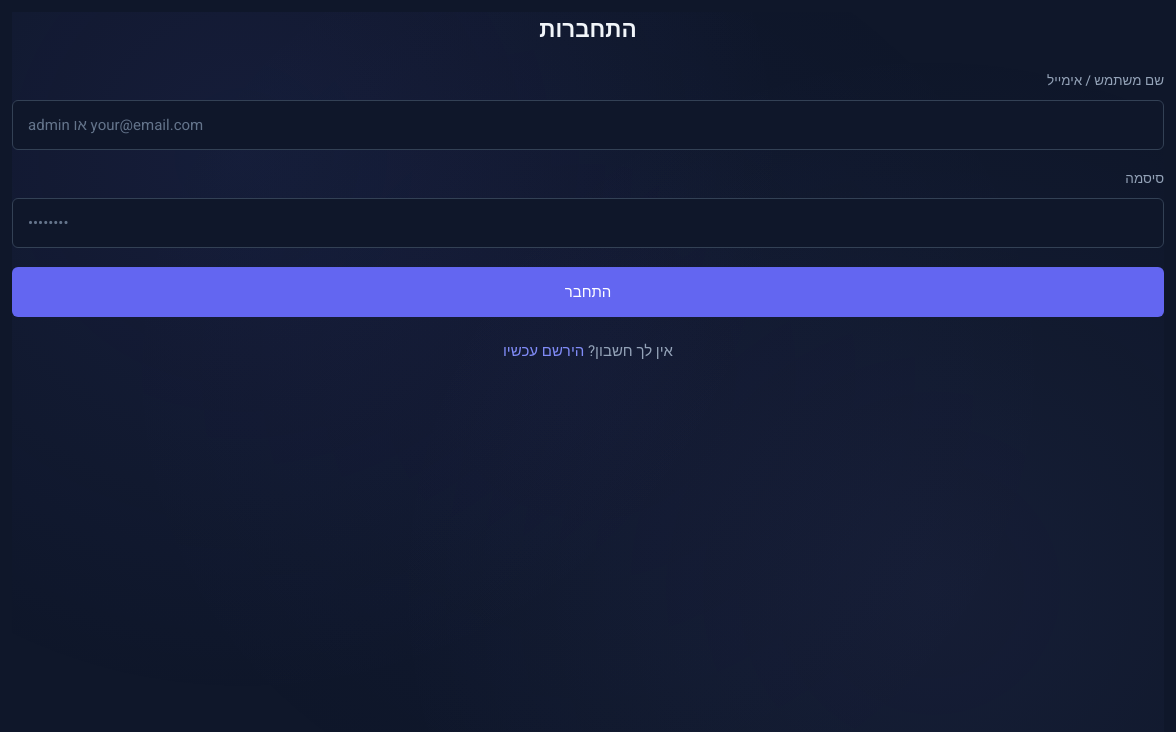
Scenario: Login - password login › clears the previous error when submitting again
This screenshot has width=1176, height=732.
Type "dana@example.com" into the field with placeholder "admin או your@email.com" at (588, 125), box 12,100 -> 1164,150
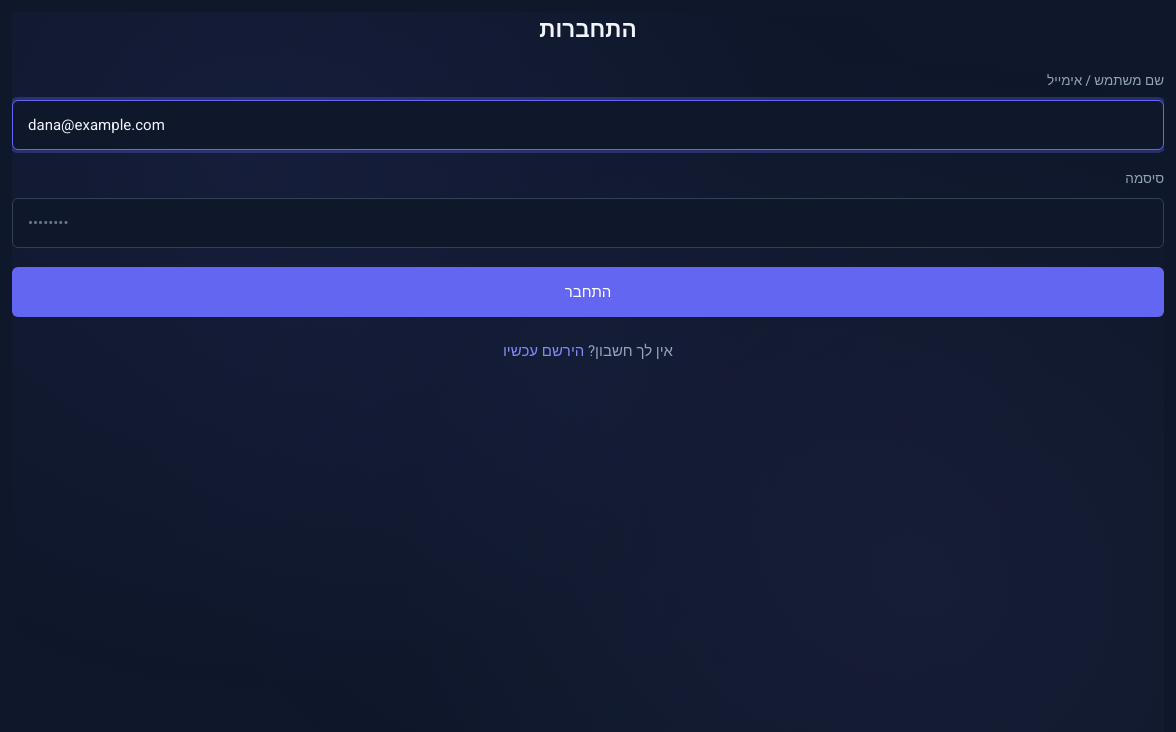
Type "secret" into the password field with placeholder "••••••••" at (588, 223), box 12,198 -> 1164,248
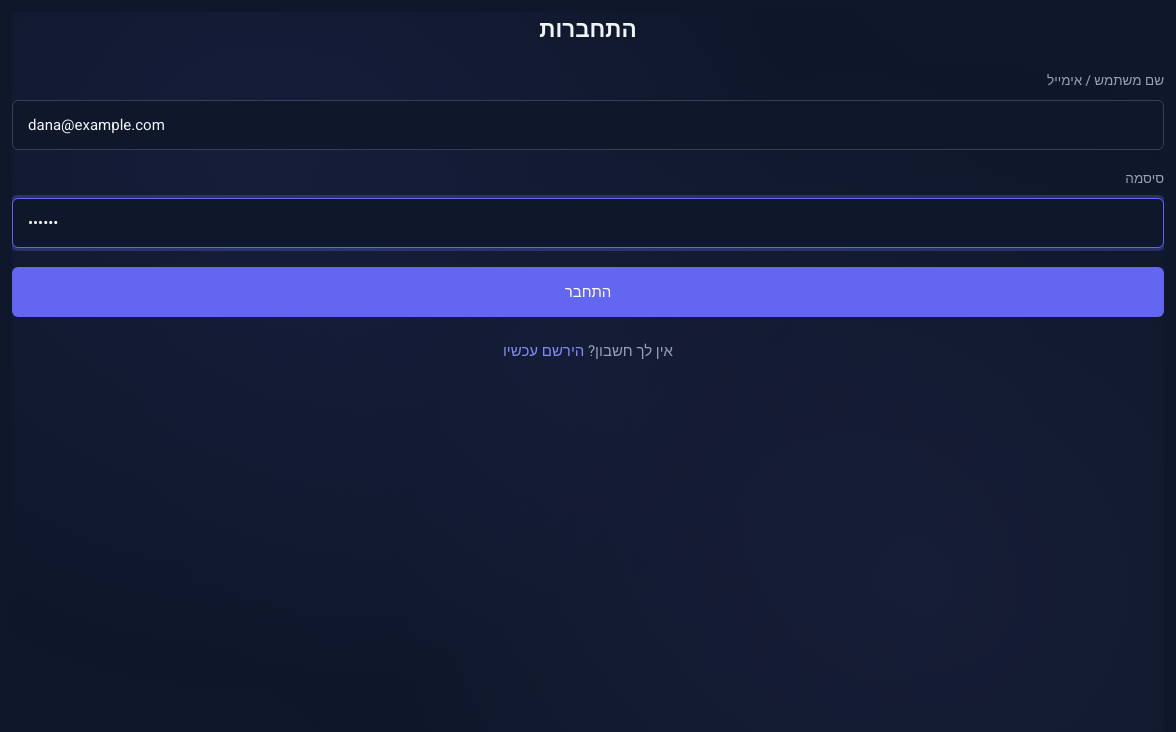
Click the button "התחבר" at (588, 292), box 12,267 -> 1164,317
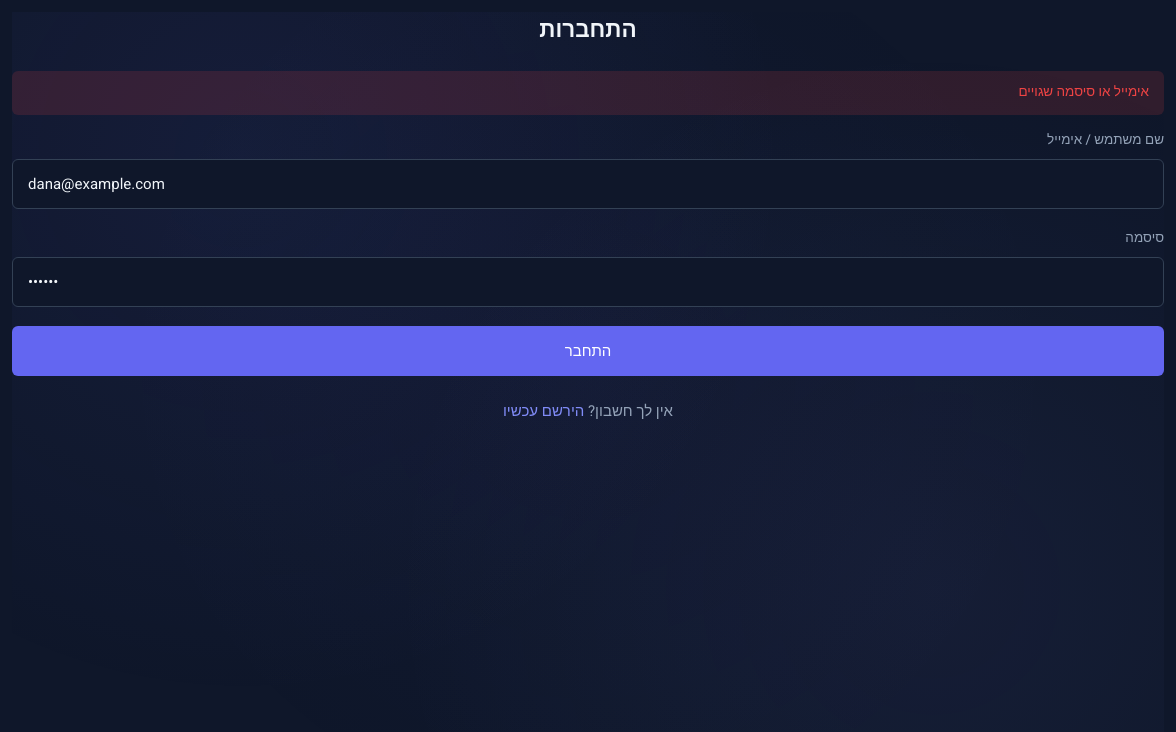
Expected: the text "אימייל או סיסמה שגויים" is shown, 12,70 -> 1164,115
Click the button "התחבר" at (588, 351), box 12,326 -> 1164,376
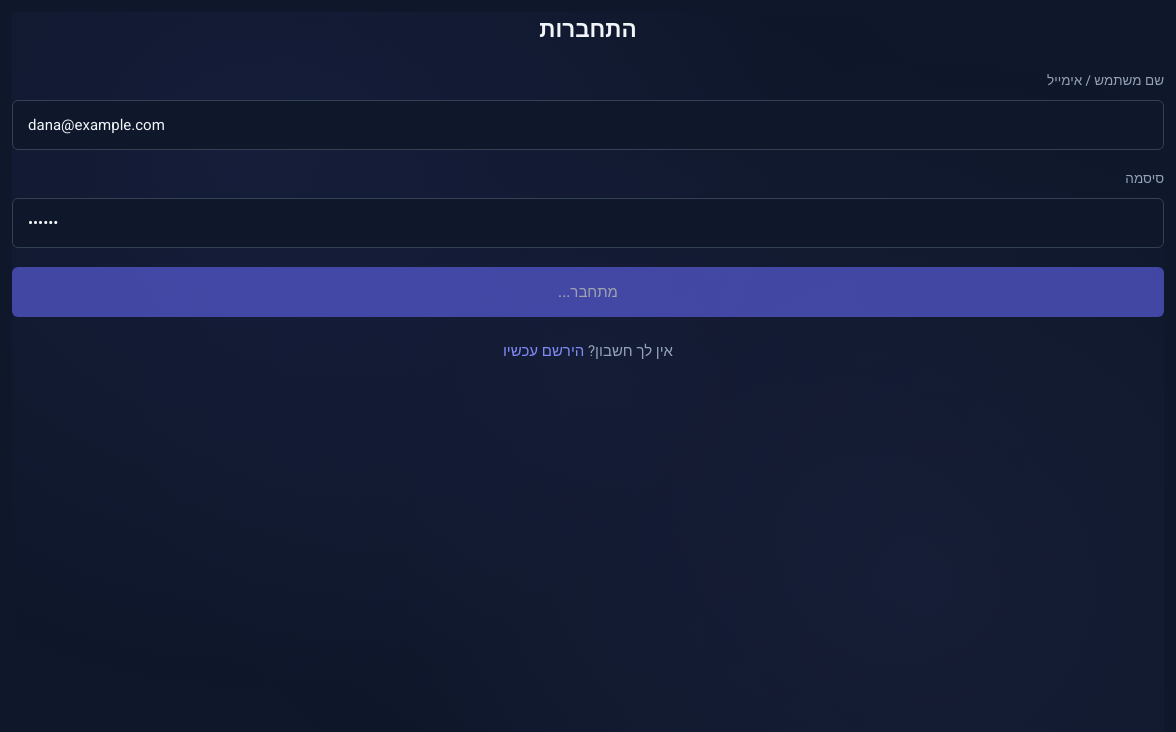
Expected: the text "אימייל או סיסמה שגויים" is gone
